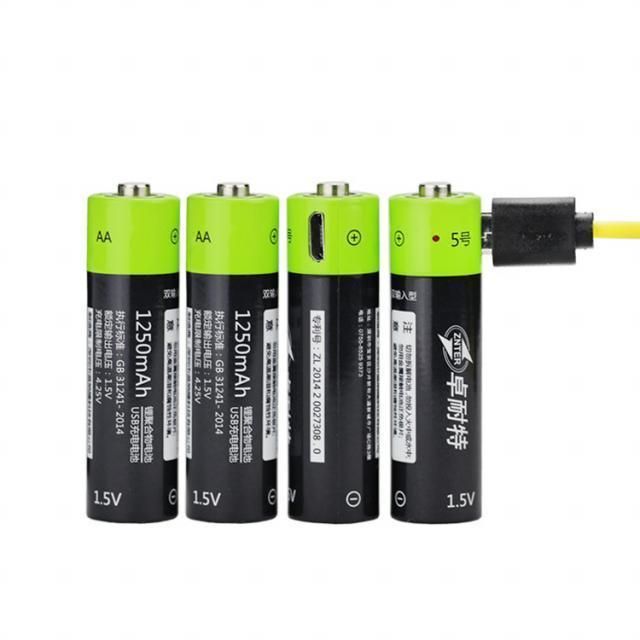Hazard: (286, 181, 383, 526), (184, 180, 280, 525), (387, 180, 482, 528), (86, 181, 182, 525)
